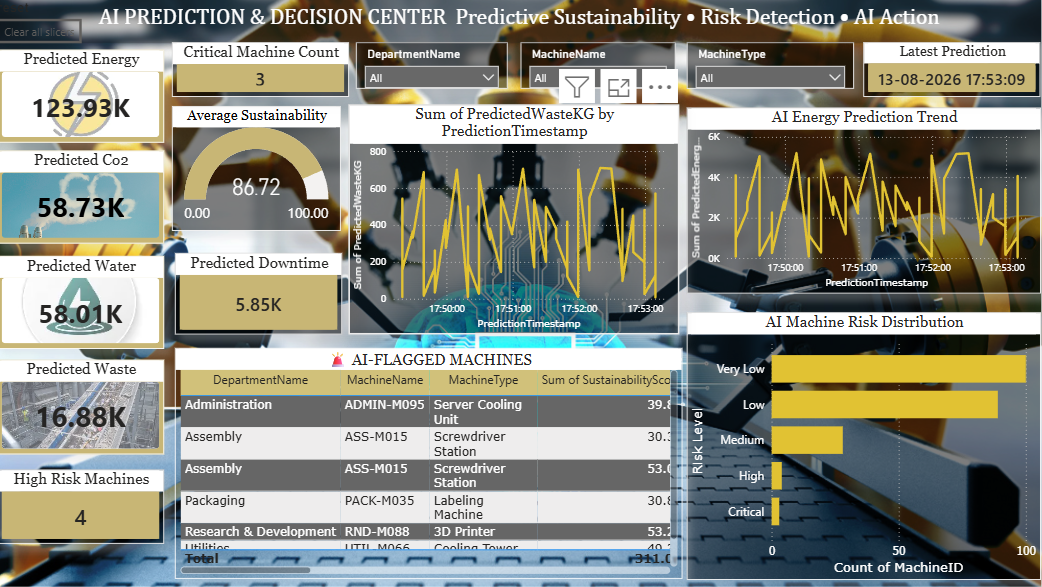

Layout of this report page (visuals, bound fields, positions):
{"tool":"powerbi","page":{"name":"AI Prediction Center","canvas":[1280,720],"ordinal":3},"visuals":[{"type":"cardVisual","title":"Predicted Energy","fields":{"Data":["Sum(vw_IndustrialDashboard.PredictedEnergyKWH)"]},"box":[0,62.1,205.2,113.8],"z":0},{"type":"cardVisual","title":"Predicted Co2","fields":{"Data":["Sum(vw_IndustrialDashboard.PredictedCO2Emission)"]},"box":[0,186.2,205.2,113.8],"z":1000},{"type":"cardVisual","title":"Predicted Water","fields":{"Data":["Sum(vw_IndustrialDashboard.PredictedWaterLitres)"]},"box":[0,313.8,205.2,113.8],"z":2000},{"type":"cardVisual","title":"Predicted Waste","fields":{"Data":["Sum(vw_IndustrialDashboard.PredictedWasteKG)"]},"box":[0,441.4,205.2,115.5],"z":3000},{"type":"cardVisual","title":"Predicted Downtime","fields":{"Data":["Sum(vw_IndustrialDashboard.PredictedDowntimeMinutes)"]},"box":[219,310.3,205.2,100],"z":4000},{"type":"slicer","fields":{"Values":["vw_IndustrialDashboard.DepartmentName"]},"box":[439.7,53.4,186.2,56.9],"z":5000},{"type":"slicer","fields":{"Values":["vw_IndustrialDashboard.MachineName"]},"box":[641.4,53.4,189.7,56.9],"z":6000},{"type":"slicer","fields":{"Values":["vw_IndustrialDashboard.MachineType"]},"box":[844.8,53.4,205.2,56.9],"z":7000},{"type":"textbox","box":[0,0,1280,53.8],"z":8000},{"type":"gauge","fields":{"Y":["Departments.Average Sustainability"]},"box":[213.8,131,206.9,153.4],"z":9000},{"type":"clusteredBarChart","title":"AI Machine Risk Distribution","fields":{"Category":["vw_IndustrialDashboard.Risk Level"],"Y":["Count(vw_IndustrialDashboard.MachineID)"]},"box":[844.8,382.8,434.5,327.6],"z":10000},{"type":"cardVisual","title":"Critical Machine Count","fields":{"Data":["vw_IndustrialDashboard.Critical Machine Count"]},"box":[213.8,53.4,217.2,67.2],"z":11000},{"type":"cardVisual","title":"High Risk Machines","fields":{"Data":["vw_IndustrialDashboard.High Risk Machines"]},"box":[0,575.9,205.2,91.4],"z":12000},{"type":"lineChart","title":"AI Energy Prediction Trend","fields":{"Y":["Sum(vw_IndustrialDashboard.PredictedEnergyKWH)"],"Category":["vw_IndustrialDashboard.PredictionTimestamp"]},"box":[844.8,132.8,434.5,227.6],"z":13000},{"type":"lineChart","fields":{"Y":["Sum(vw_IndustrialDashboard.PredictedWasteKG)"],"Category":["vw_IndustrialDashboard.PredictionTimestamp"]},"box":[431,129.3,405.2,281],"z":14000},{"type":"tableEx","title":"🚨 AI-FLAGGED MACHINES","fields":{"Values":["vw_IndustrialDashboard.DepartmentName","vw_IndustrialDashboard.MachineName","vw_IndustrialDashboard.MachineType","Sum(vw_IndustrialDashboard.SustainabilityScore)","vw_IndustrialDashboard.Risk Level","Sum(vw_IndustrialDashboard.PredictedCO2Emission)","Sum(vw_IndustrialDashboard.PredictedEnergyKWH)","Sum(vw_IndustrialDashboard.PredictedDowntimeMinutes)","Sum(vw_IndustrialDashboard.PredictedWasteKG)","Sum(vw_IndustrialDashboard.PredictedWaterLitres)","vw_IndustrialDashboard.AIRecommendation"]},"box":[219,427.6,622.4,282.8],"z":15000},{"type":"cardVisual","title":"Latest Prediction","fields":{"Data":["Departments.Latest Prediction"]},"box":[1062.1,53.4,217.2,67.2],"z":16000},{"type":"actionButton","title":"reset","box":[0,0,104,54],"z":17000}]}

Visuals, with their boxes in screenshot pixels (x1, y1, x2, y2), scaled from the page's 1280x720 canvas onto the 1042x587 screenshot:
"Predicted Energy" cardVisual: box(0, 51, 167, 143)
"Predicted Co2" cardVisual: box(0, 152, 167, 245)
"Predicted Water" cardVisual: box(0, 256, 167, 349)
"Predicted Waste" cardVisual: box(0, 360, 167, 454)
"Predicted Downtime" cardVisual: box(178, 253, 345, 335)
slicer - vw_IndustrialDashboard.DepartmentName: box(358, 44, 510, 90)
slicer - vw_IndustrialDashboard.MachineName: box(522, 44, 677, 90)
slicer - vw_IndustrialDashboard.MachineType: box(688, 44, 855, 90)
textbox: box(0, 0, 1041, 44)
gauge - Departments.Average Sustainability: box(174, 107, 342, 232)
"AI Machine Risk Distribution" clusteredBarChart: box(688, 312, 1041, 579)
"Critical Machine Count" cardVisual: box(174, 44, 351, 98)
"High Risk Machines" cardVisual: box(0, 470, 167, 544)
"AI Energy Prediction Trend" lineChart: box(688, 108, 1041, 294)
lineChart - Sum(vw_IndustrialDashboard.PredictedWasteKG) x vw_IndustrialDashboard.PredictionTimestamp: box(351, 105, 681, 335)
"🚨 AI-FLAGGED MACHINES" tableEx: box(178, 349, 685, 579)
"Latest Prediction" cardVisual: box(865, 44, 1041, 98)
"reset" actionButton: box(0, 0, 85, 44)
